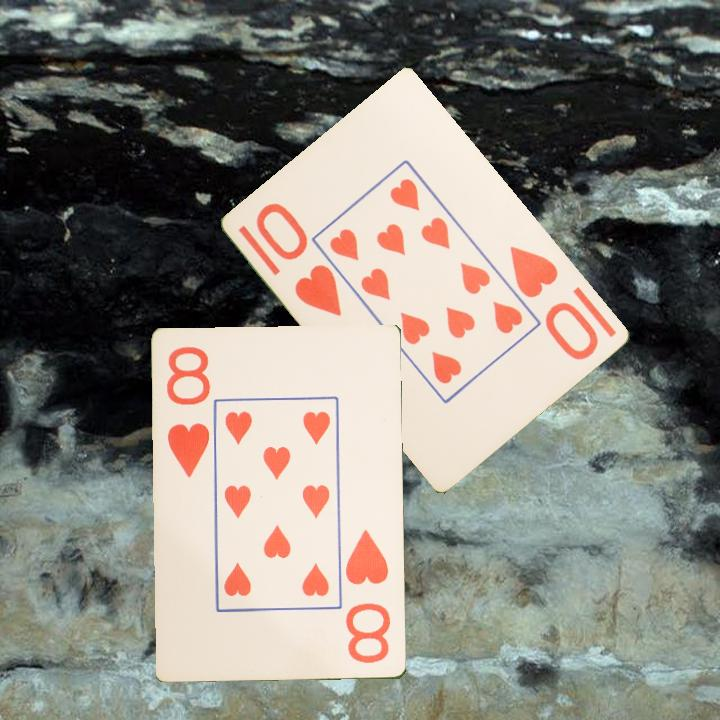10h: (506, 242, 603, 364), (252, 199, 345, 320)
8h: (343, 526, 394, 667), (164, 343, 214, 481)
